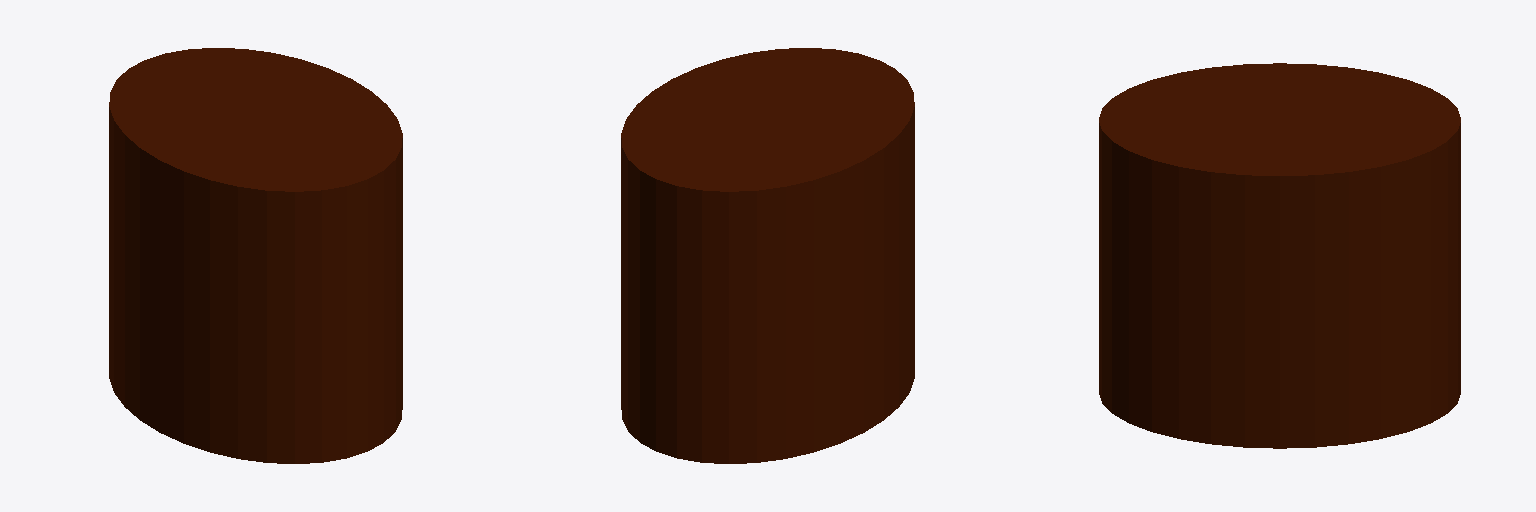
The model's file is player_right.obj.
3 renders of one model, left to right at view 1: azimuth 30°, elevation 25°; view 2: azimuth 150°, elevation 25°; view 3: azimuth 270°, elevation 25°, orthographic.
Parts seen in each view (by area): view 1: Cylinder004; view 2: Cylinder004; view 3: Cylinder004.
Part boxes in pixels (x1,y1,x2,y2): Cylinder004: (109,48,402,463); Cylinder004: (621,48,914,463); Cylinder004: (1099,63,1460,448).
Bounding box in the file's own units: 5.57 × 6.26 × 7.55.